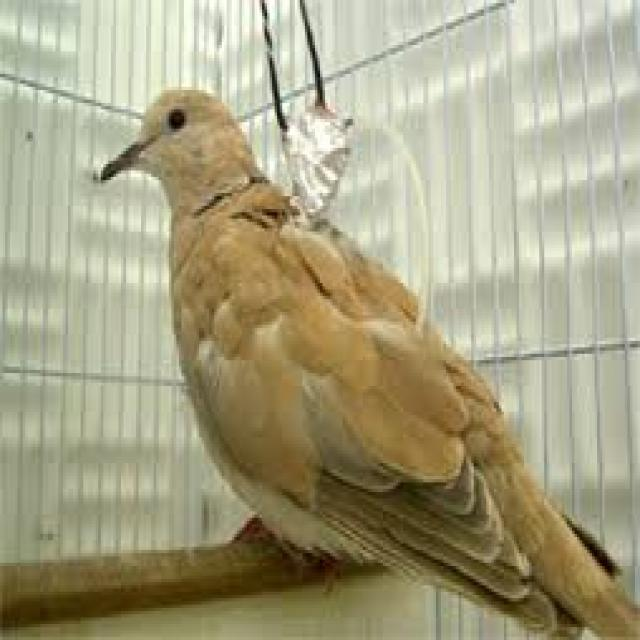bird: (95, 75, 640, 640)
